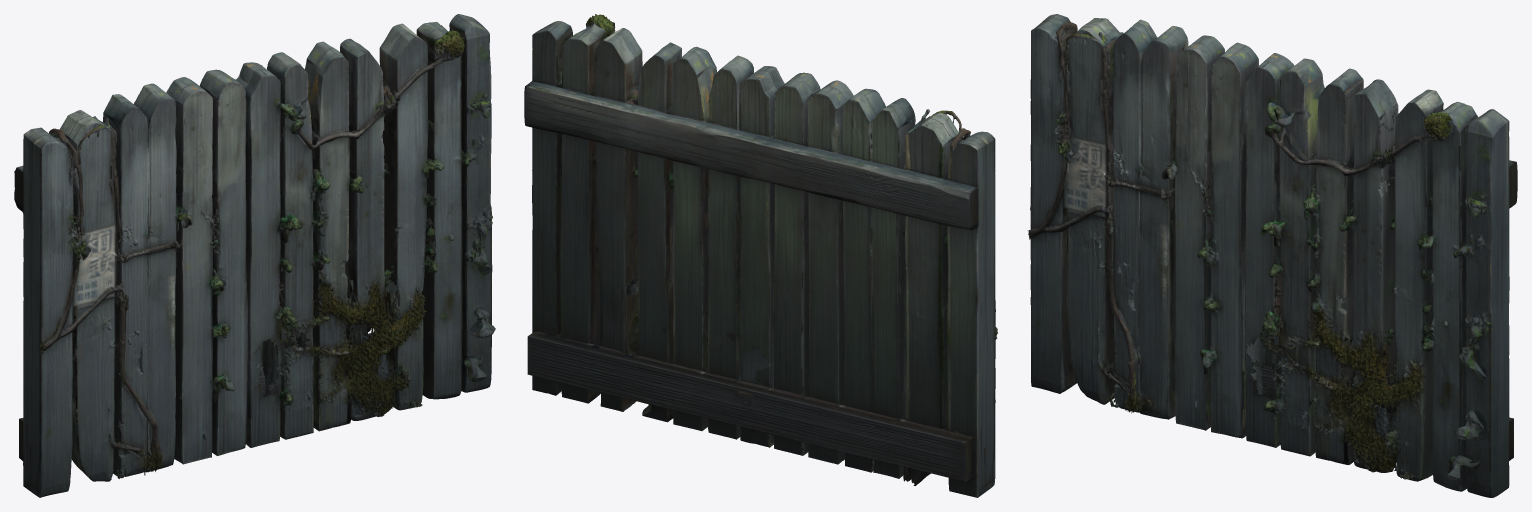
File: Fence_A_dark_atmosph_0430122409_texture.fbx
3 views of the same model, side by side, from view 1: azimuth 30°, elevation 25°; view 2: azimuth 150°, elevation 25°; view 3: azimuth 330°, elevation 25° (orthographic). The views are drawn at different scales.
Parts seen in each view (by area): view 1: temp; view 2: temp; view 3: temp.
Part boxes in pixels (bbox=[...]): temp: bbox=[14, 14, 495, 497]; temp: bbox=[524, 14, 997, 497]; temp: bbox=[1027, 14, 1517, 497].
Bounding box in the file's own units: 199 × 156 × 31.86.
1 material, 1 textured.
